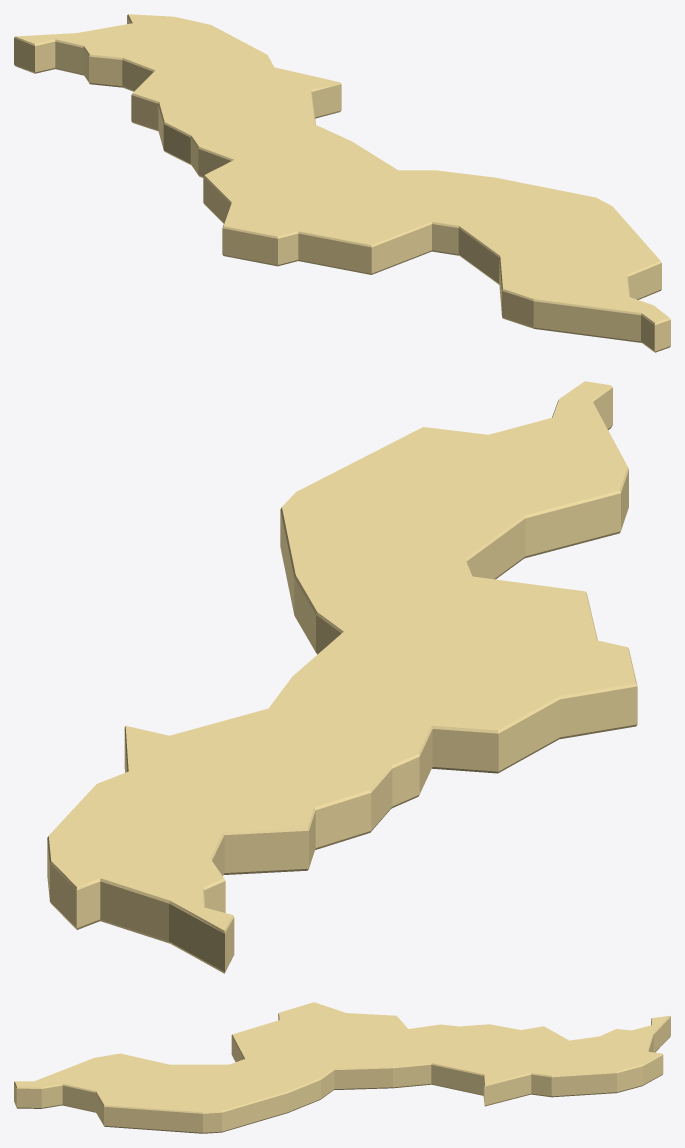
The model's file is MWI.glb.
The picture shows the model from 3 angles, top to bottom: view 1: azimuth 30°, elevation 25°; view 2: azimuth 150°, elevation 25°; view 3: azimuth 270°, elevation 25°; orthographic projection. The views are drawn at different scales.
Bounding box in the file's own units: 0.7508 × 0.068 × 1.88.
